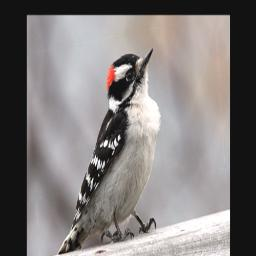Woodpecker: (47, 47, 169, 256)
